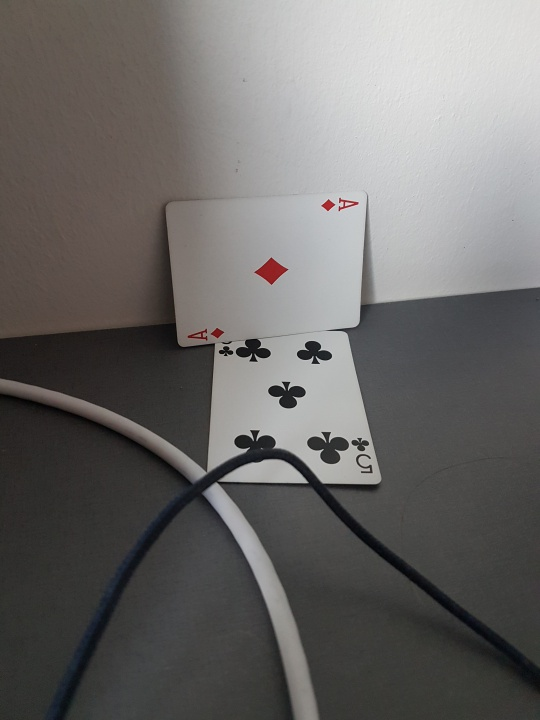5: (207, 328, 384, 488)
ace: (157, 194, 368, 348)
